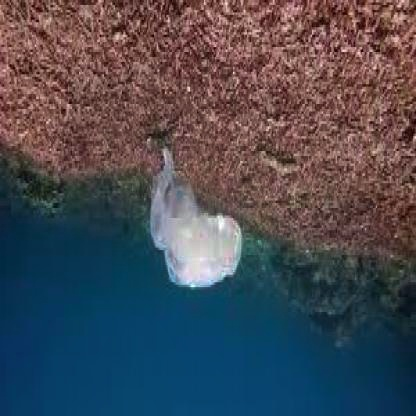pbag: (143, 139, 247, 297)
